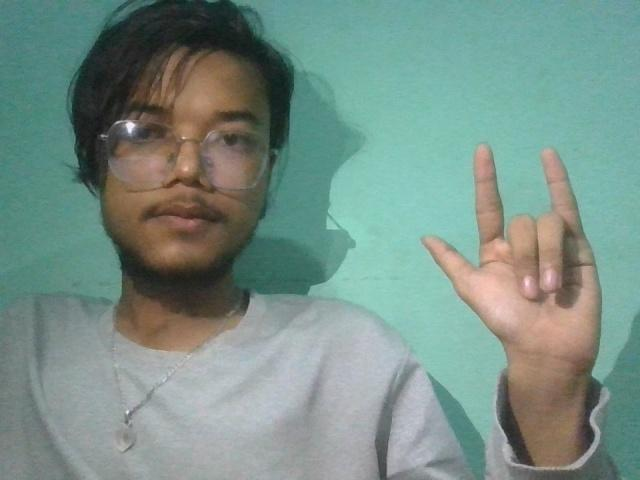I Love You: (411, 129, 624, 400)
